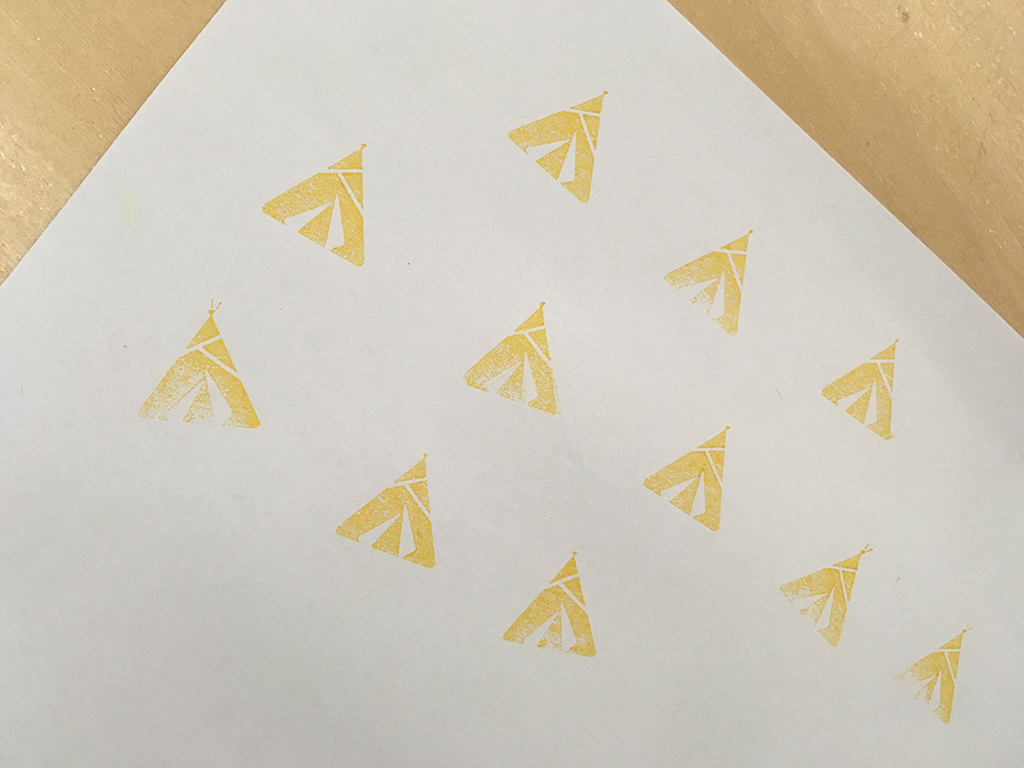tent: (130, 294, 270, 436), (256, 130, 379, 276), (768, 531, 881, 665), (494, 82, 613, 207), (654, 213, 761, 347), (630, 409, 735, 545), (334, 442, 443, 570), (460, 297, 570, 419), (500, 545, 602, 665), (814, 326, 903, 450), (889, 616, 971, 731)
